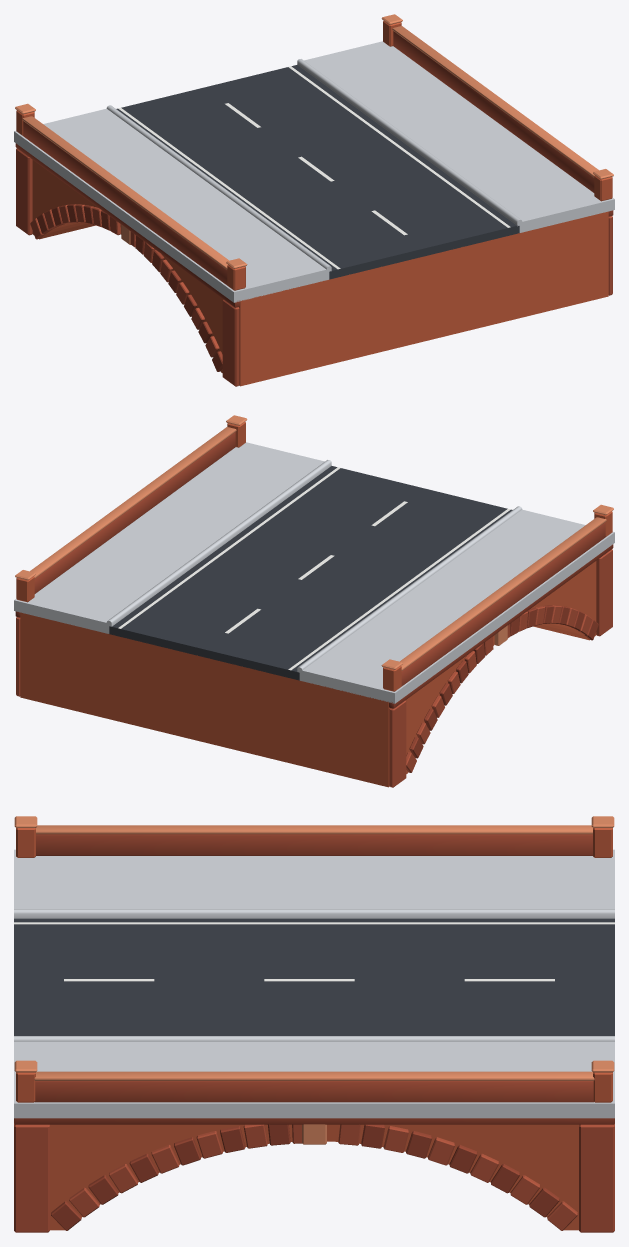
File: ponte_arco_tijolo.glb
The picture shows the model from 3 angles, top to bottom: view 1: azimuth 30°, elevation 25°; view 2: azimuth 150°, elevation 25°; view 3: azimuth 270°, elevation 25°; orthographic projection. The views are drawn at different scales.
Parts seen in each view (by area): view 1: ponte_arco_tijolo; view 2: ponte_arco_tijolo; view 3: ponte_arco_tijolo.
Part boxes in pixels (x1,y1,x2,y2): ponte_arco_tijolo: (14, 14, 614, 386); ponte_arco_tijolo: (14, 415, 614, 787); ponte_arco_tijolo: (14, 816, 614, 1232).
Size of the model in its own units: 15 by 4.54 by 15.
Materials: 1 (1 with a texture image).
